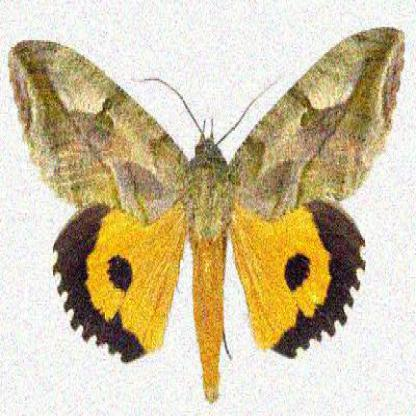fruit sucking moth: (7, 26, 405, 401)
